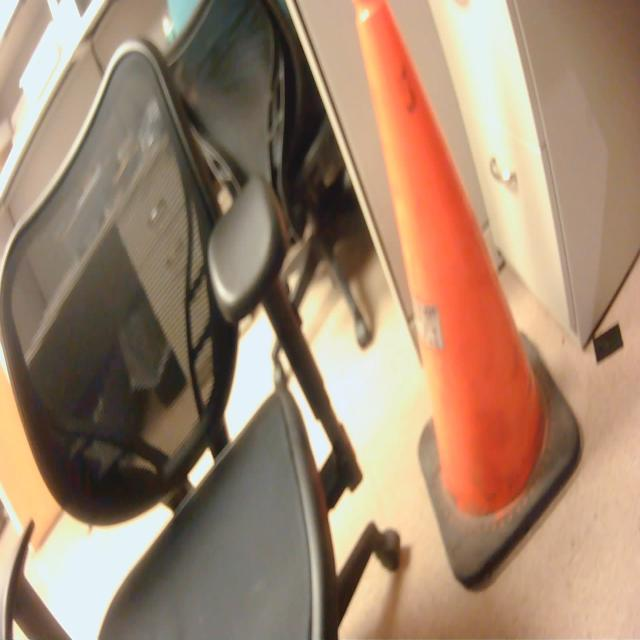traffic cone: (346, 1, 589, 601)
